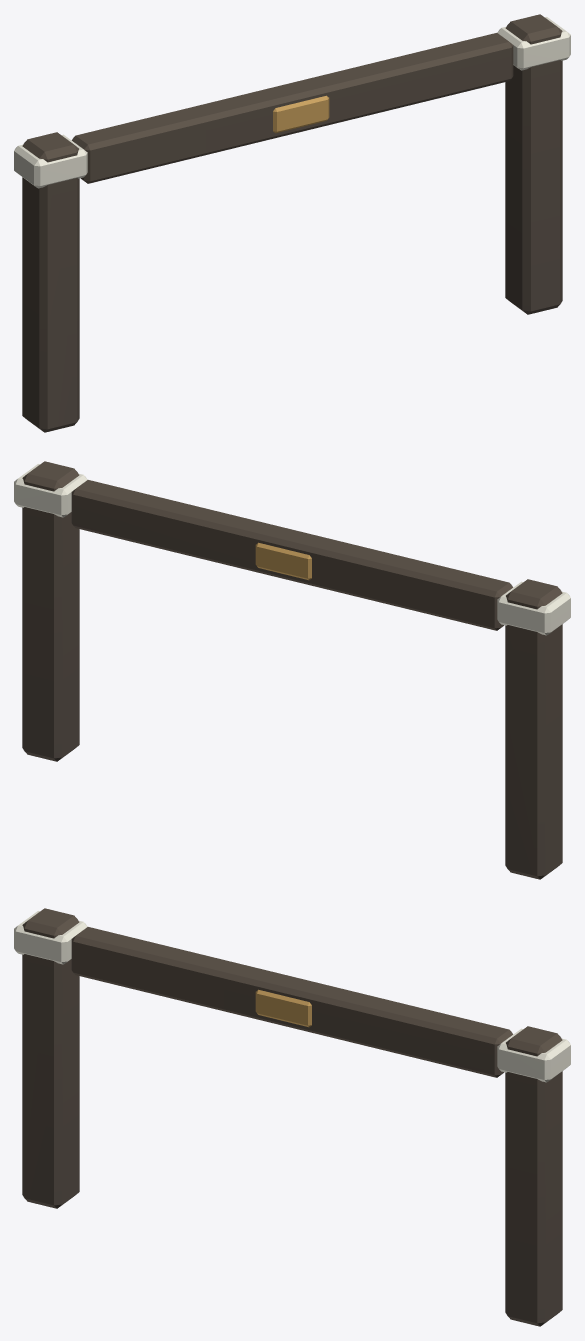
The model's file is Kit_Gate.glb.
3 views of the same model, one above another, from view 1: azimuth 30°, elevation 25°; view 2: azimuth 150°, elevation 25°; view 3: azimuth 330°, elevation 25° (orthographic).
Parts seen in each view (by area): view 1: Weathered walnut beams, Carved pale limestone, Warm brass accents; view 2: Weathered walnut beams, Carved pale limestone, Warm brass accents; view 3: Weathered walnut beams, Carved pale limestone, Warm brass accents.
Boxes of the visible parts, x1,y1,x2,y2 form: Weathered walnut beams: (22, 14, 562, 432); Carved pale limestone: (14, 17, 570, 188); Warm brass accents: (273, 95, 329, 133); Weathered walnut beams: (22, 461, 562, 879); Carved pale limestone: (14, 464, 570, 635); Warm brass accents: (255, 542, 311, 580); Weathered walnut beams: (22, 908, 562, 1326); Carved pale limestone: (14, 911, 570, 1082); Warm brass accents: (255, 989, 311, 1027).
Size of the model in its own units: 2 by 1 by 0.1599.
